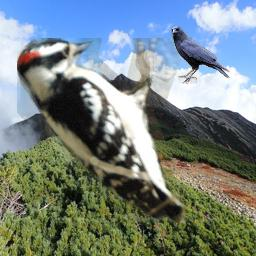Crow: (170, 26, 231, 84)
Woodpecker: (17, 38, 186, 223)
